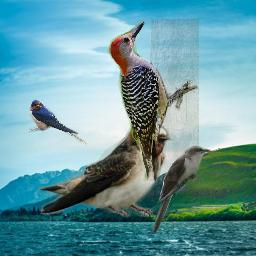Cuckoo: (150, 145, 211, 237)
Swallow: (37, 118, 175, 220), (29, 99, 87, 145)
Woodpecker: (104, 19, 199, 181)
